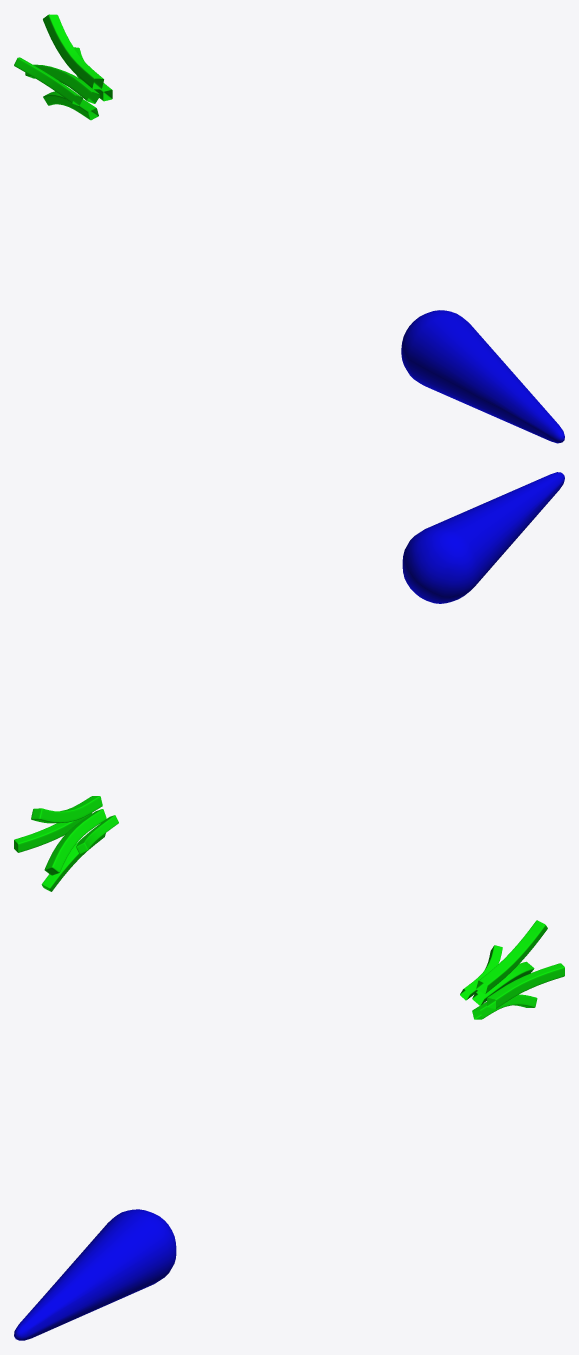
Rendered from karotte_high_explosion.fbx.
The picture shows the model from 3 angles, top to bottom: view 1: azimuth 30°, elevation 25°; view 2: azimuth 150°, elevation 25°; view 3: azimuth 330°, elevation 25°; orthographic projection.
Parts seen in each view (by area): view 1: polySurface14, polySurface18, polySurface16, polySurface19, polySurface15; view 2: polySurface14, polySurface19, polySurface18, polySurface17, polySurface15, polySurface16; view 3: polySurface14, polySurface18, polySurface17, polySurface19, polySurface15, polySurface16.
Part boxes in pixels (left/top/right/bottom): polySurface14: left=401, top=310, right=564, bottom=443; polySurface18: left=43, top=14, right=103, bottom=89; polySurface16: left=14, top=57, right=82, bottom=105; polySurface19: left=25, top=64, right=100, bottom=103; polySurface15: left=43, top=91, right=98, bottom=120; polySurface14: left=402, top=472, right=564, bottom=603; polySurface19: left=44, top=809, right=106, bottom=875; polySurface18: left=31, top=796, right=102, bottom=823; polySurface17: left=14, top=813, right=91, bottom=852; polySurface15: left=41, top=833, right=105, bottom=891; polySurface16: left=76, top=815, right=118, bottom=854; polySurface14: left=14, top=1209, right=176, bottom=1340; polySurface18: left=476, top=920, right=547, bottom=993; polySurface17: left=487, top=963, right=564, bottom=1009; polySurface19: left=472, top=961, right=534, bottom=1005; polySurface15: left=472, top=994, right=537, bottom=1019; polySurface16: left=460, top=945, right=502, bottom=1000.
Bounding box in the file's own units: 0.1198 × 0.1412 × 1.56.
